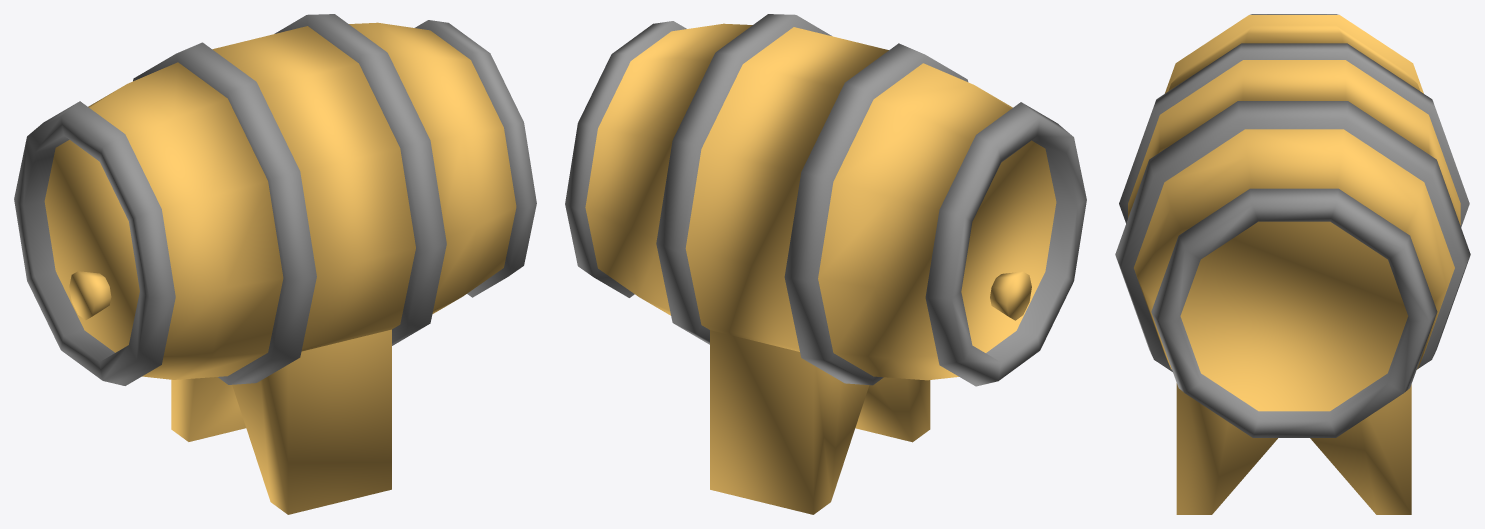
The model's file is BarrelB.fbx.
The picture shows the model from 3 angles, left to right: view 1: azimuth 30°, elevation 25°; view 2: azimuth 150°, elevation 25°; view 3: azimuth 270°, elevation 25°; orthographic projection.
Parts seen in each view (by area): view 1: Obj_BarrelB; view 2: Obj_BarrelB; view 3: Obj_BarrelB.
Boxes of the visible parts, x1,y1,x2,y2 form: Obj_BarrelB: (14, 14, 536, 514); Obj_BarrelB: (565, 14, 1086, 514); Obj_BarrelB: (1115, 14, 1470, 514).
Size of the model in its own units: 303 by 383 by 389.
